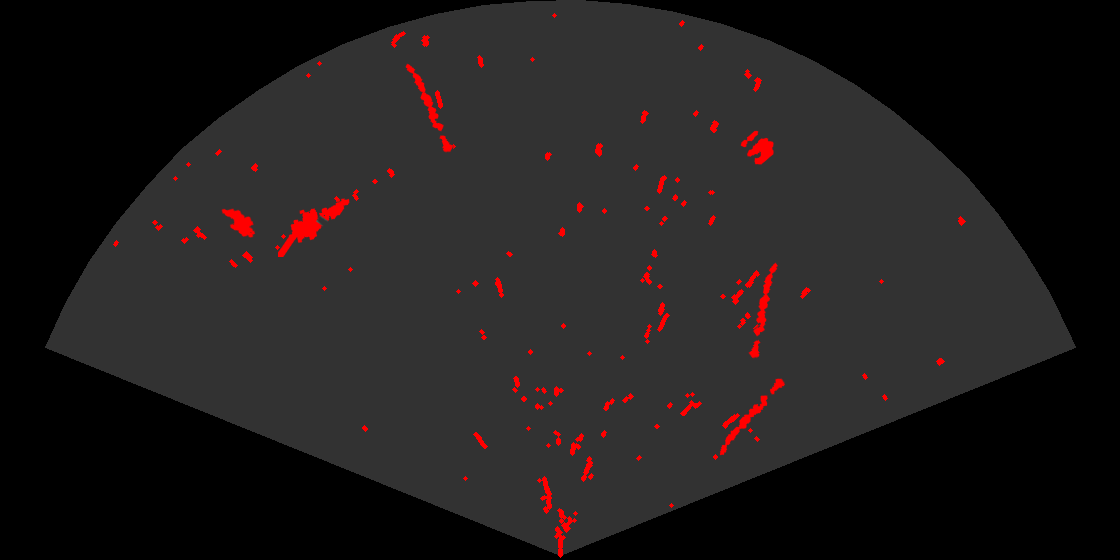AUV: (220, 207, 257, 239)
ball: (739, 129, 775, 166)
chain: (718, 377, 787, 457), (404, 62, 454, 155), (747, 261, 779, 361)
frogman: (278, 197, 351, 257)
